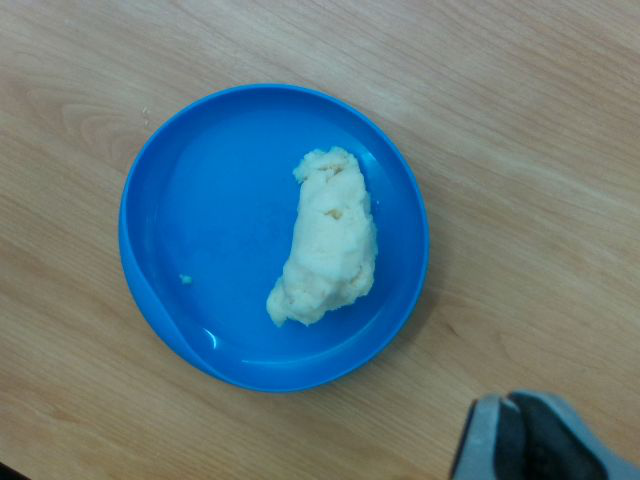mashed_potato: (268, 147, 377, 325)
